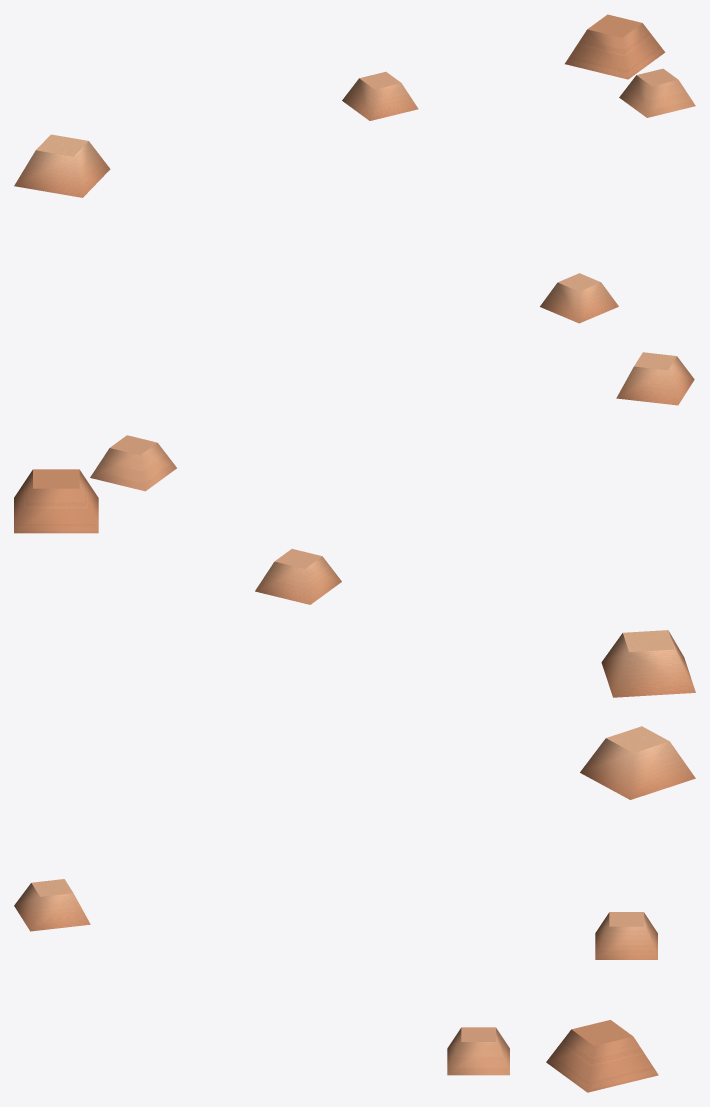
Rendered from desert_rocks.glb.
The picture shows the model from 3 angles, top to bottom: view 1: azimuth 30°, elevation 25°; view 2: azimuth 150°, elevation 25°; view 3: azimuth 270°, elevation 25°; orthographic projection. The views are drawn at different scales.
Visible parts, largest first — view 1: sand-rocks; view 2: sand-rocks; view 3: sand-rocks.
Part boxes in pixels (x1=…): sand-rocks: x1=14, y1=14, x2=695, y2=323; sand-rocks: x1=14, y1=352, x2=695, y2=697; sand-rocks: x1=14, y1=726, x2=695, y2=1092.
Bounding box in the file's own units: 0.8878 × 0.0435 × 0.7488.
Materials: 1 (1 with a texture image).
